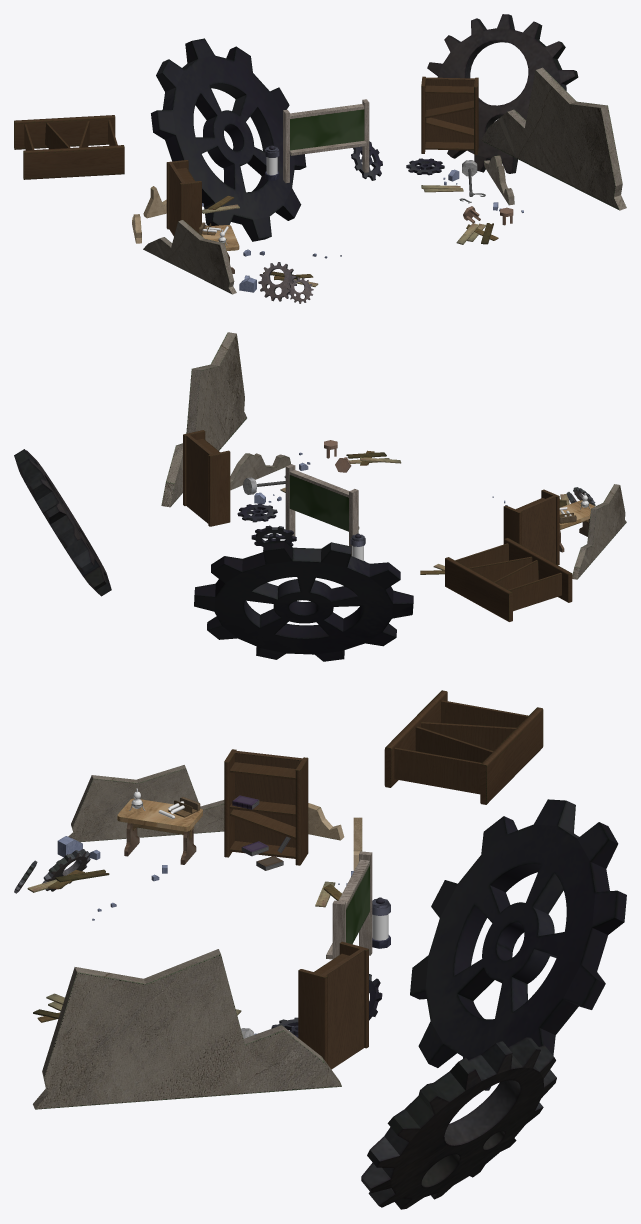
3 renders of one model, top to bottom at view 1: azimuth 30°, elevation 25°; view 2: azimuth 150°, elevation 25°; view 3: azimuth 270°, elevation 25°, orthographic. The views are drawn at different scales.
Visible parts, largest first — view 1: Object026, Line003, Object027, Box073, Box034, Box065, Box067, Box011, Cylinder002, Cylinder084, Object009, Box074 (+8 smaller); view 2: Object026, Line003, Object027, Box073, Box074, Box034, Box066, Box009, Box065, Cylinder084, Line001, Box011 (+2 smaller); view 3: Line003, Object026, Object027, Box074, Box073, Box065, Box009, Box066, Box016, Box011, Box034, Box001 (+4 smaller).
Boxes of the visible parts, box(x1,y1,x2,y2) form: Object026: box(151, 38, 306, 241); Line003: box(143, 67, 626, 294); Object027: box(427, 14, 578, 173); Box073: box(14, 115, 124, 179); Box034: box(290, 104, 364, 150); Box065: box(425, 77, 477, 142); Box067: box(425, 85, 473, 150); Box011: box(166, 160, 201, 234); Cylinder002: box(258, 262, 313, 303); Cylinder084: box(351, 141, 444, 180); Object009: box(283, 99, 369, 183); Box074: box(24, 119, 117, 150); Object026: box(194, 540, 413, 661); Line003: box(161, 332, 626, 579); Object027: box(14, 449, 111, 596); Box073: box(445, 538, 572, 621); Box074: box(455, 543, 561, 611); Box034: box(289, 470, 348, 531); Box066: box(183, 430, 230, 526); Box009: box(516, 495, 557, 563); Box065: box(185, 434, 212, 523); Cylinder084: box(237, 503, 296, 546); Line001: box(230, 453, 290, 490); Box011: box(503, 489, 559, 565); Line003: box(33, 765, 341, 1109); Object026: box(410, 799, 626, 1090); Object027: box(361, 1037, 556, 1209); Box074: box(394, 700, 528, 794); Box073: box(384, 690, 543, 804); Box065: box(320, 948, 365, 1069); Box009: box(232, 750, 306, 847); Box066: box(298, 941, 368, 1064); Box016: box(229, 762, 295, 858); Box011: box(224, 749, 308, 865); Box034: box(338, 859, 369, 944); Box001: box(117, 798, 202, 831).
Size of the model in its own units: 9527 by 2994 by 6497.
